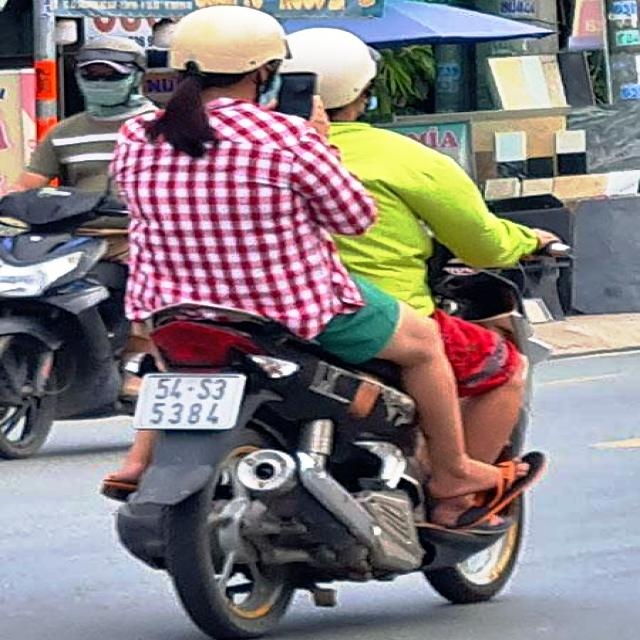license_plate: (138, 373, 245, 430)
